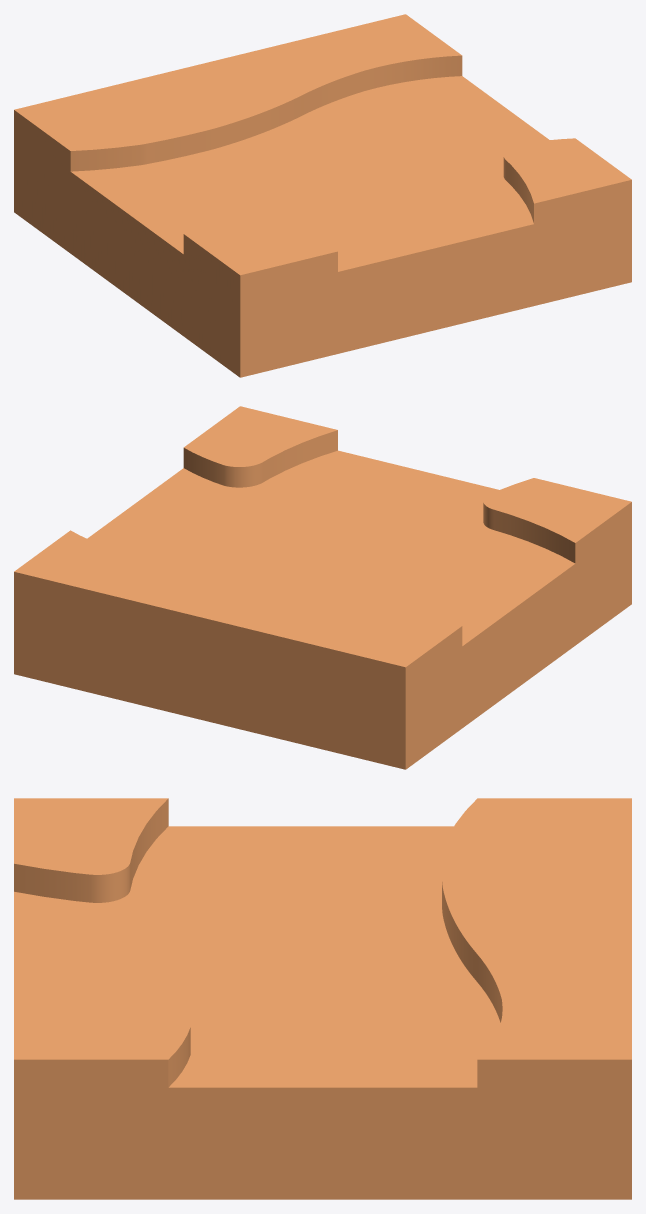
File: ground_dirtRiverT.fbx
3 renders of one model, top to bottom at view 1: azimuth 30°, elevation 25°; view 2: azimuth 150°, elevation 25°; view 3: azimuth 270°, elevation 25°, orthographic. The views are drawn at different scales.
Parts seen in each view (by area): view 1: ground_dirtRiverT; view 2: ground_dirtRiverT; view 3: ground_dirtRiverT.
Part boxes in pixels (x1,y1,x2,y2): ground_dirtRiverT: (14, 14, 631, 377); ground_dirtRiverT: (14, 406, 631, 769); ground_dirtRiverT: (14, 798, 631, 1199).
Size of the model in its own units: 10 by 2.5 by 10.
